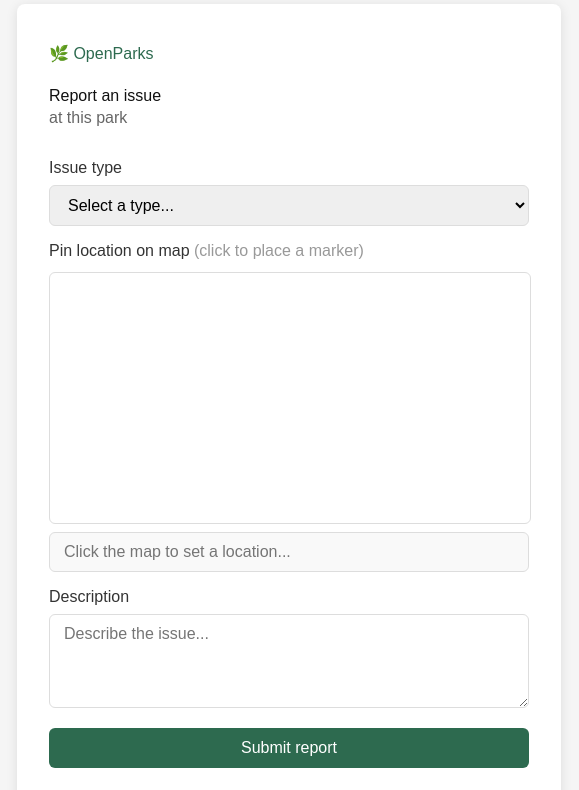
it: ReportPage › handles form submission and shows loading state
Select "Flooding" in the dropdown at point(289, 206), box left=49, top=185, right=529, bottom=226
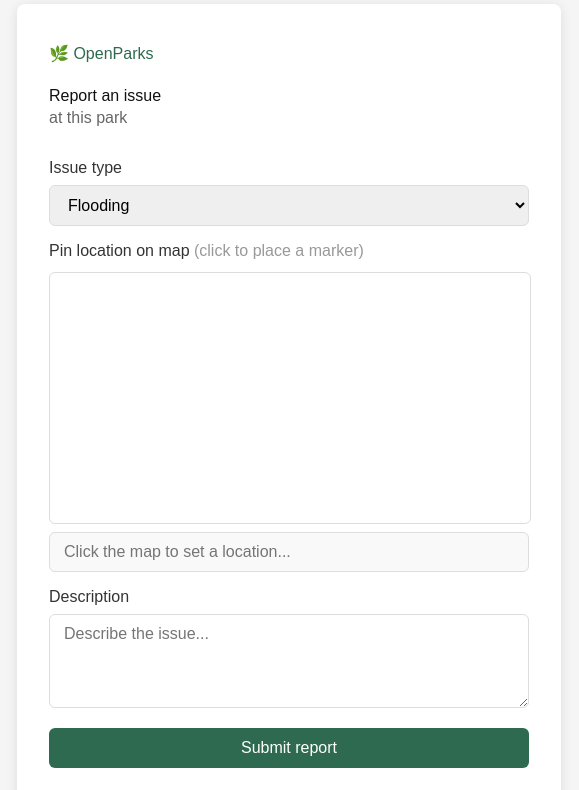
Type "Waterlogged path" into the text box with placeholder "Describe the issue...".
click(289, 661); type("Waterlogged path")  # box left=49, top=614, right=529, bottom=708
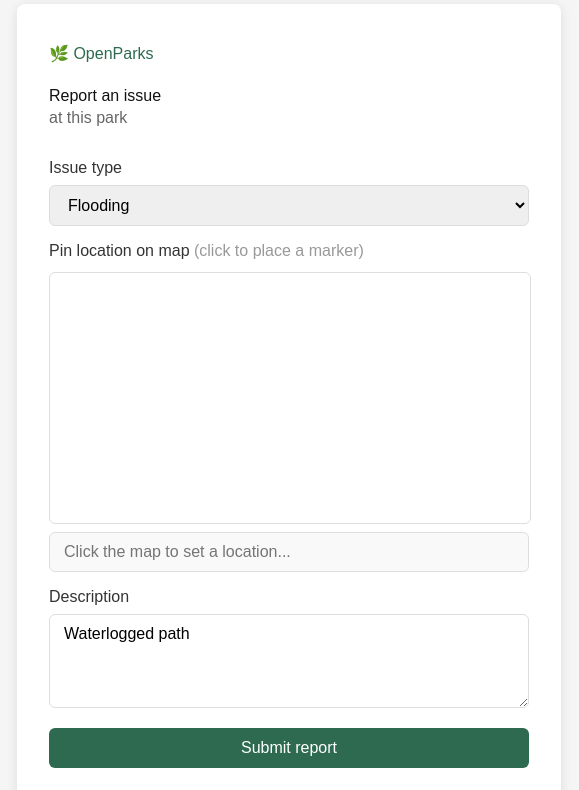
Click the button "Submit report".
click(289, 748)  # box left=49, top=728, right=529, bottom=768
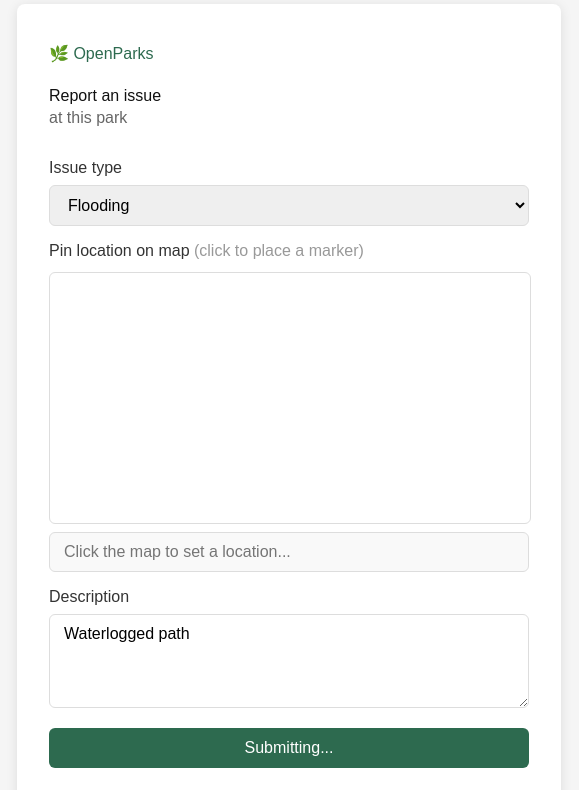
Expected: the button "Submit report" reads "Submitting...", left=49, top=728, right=529, bottom=768
